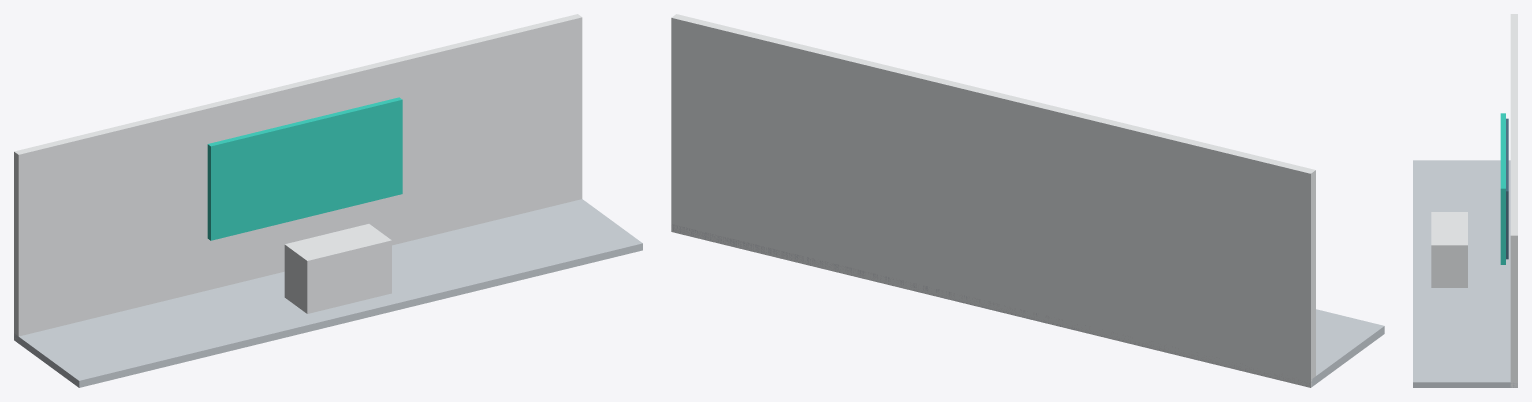
3 renders of one model, left to right at view 1: azimuth 30°, elevation 25°; view 2: azimuth 150°, elevation 25°; view 3: azimuth 270°, elevation 25°, orthographic. The views are drawn at different scales.
Visible parts, largest first — view 1: Exhibition Booth Concept; view 2: Exhibition Booth Concept; view 3: Exhibition Booth Concept.
Boxes of the visible parts, bbox=[...] form: Exhibition Booth Concept: bbox=[14, 14, 642, 387]; Exhibition Booth Concept: bbox=[671, 14, 1384, 387]; Exhibition Booth Concept: bbox=[1413, 14, 1517, 387].
Size of the model in its own units: 10 by 3.2 by 2.
